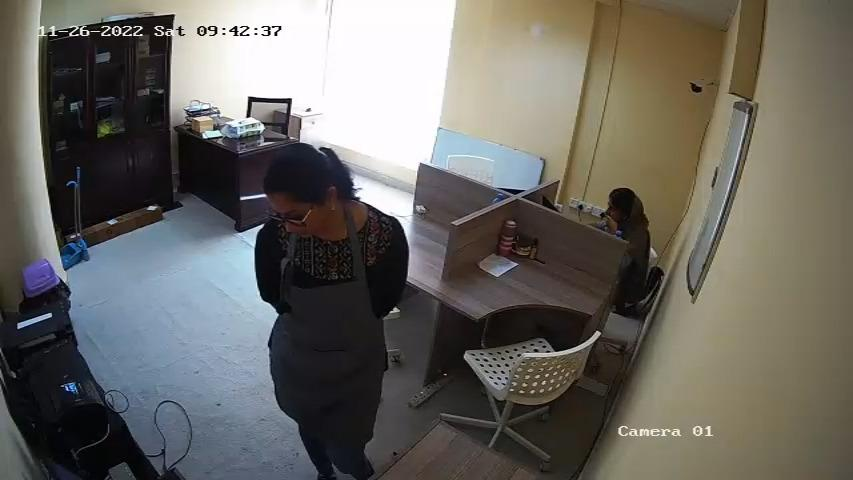apron: (263, 239, 387, 406)
